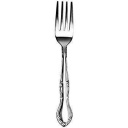Fork: (50, 2, 83, 128)
